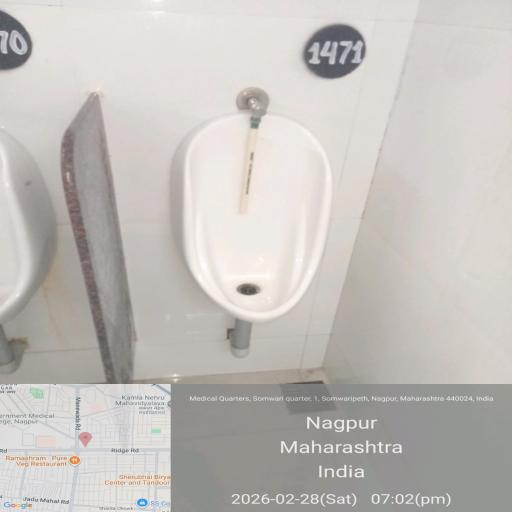clean_floor: (70, 9, 495, 117), (342, 130, 508, 366), (77, 128, 199, 372)
clean_urinal: (168, 109, 340, 318)
